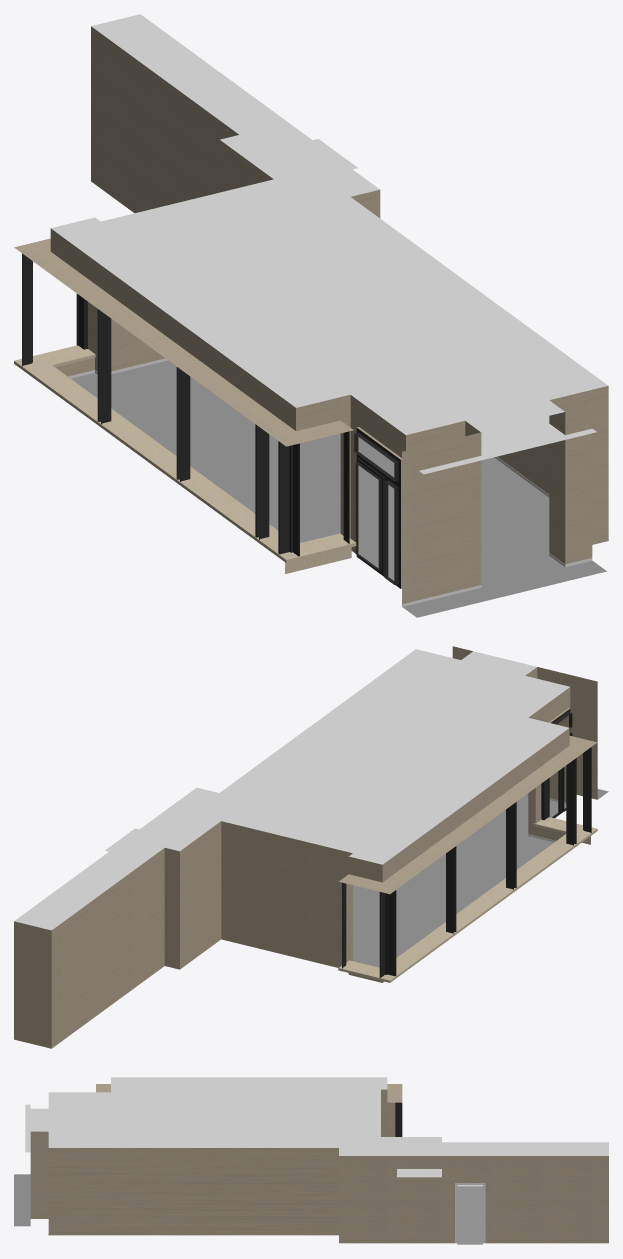
Rendered from Room01.FBX.
3 views of the same model, one above another, from view 1: azimuth 30°, elevation 25°; view 2: azimuth 150°, elevation 25°; view 3: azimuth 270°, elevation 25° (orthographic). The views are drawn at different scales.
Visible parts, largest first — view 1: Room01; view 2: Room01; view 3: Room01.
Boxes of the visible parts, box(x1,y1,x2,y2) form: Room01: box(14, 14, 608, 617); Room01: box(14, 646, 608, 1048); Room01: box(14, 1077, 608, 1244).
Bounding box in the file's own units: 687 × 1852 × 300.
